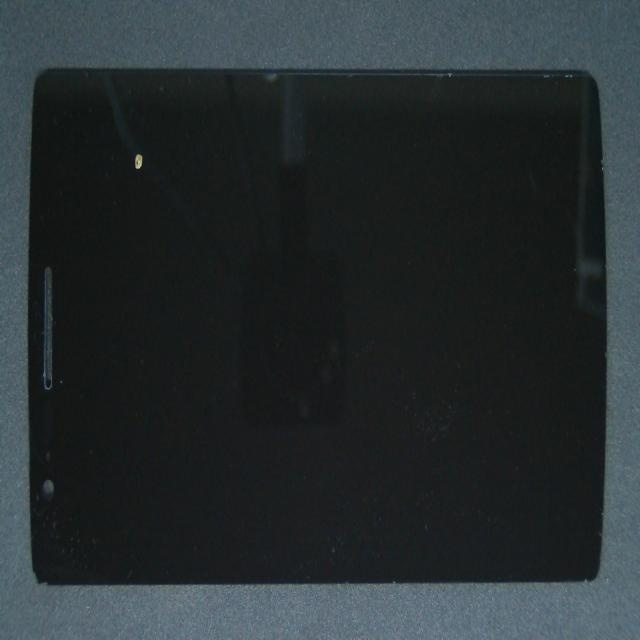stain: (94, 113, 237, 239)
